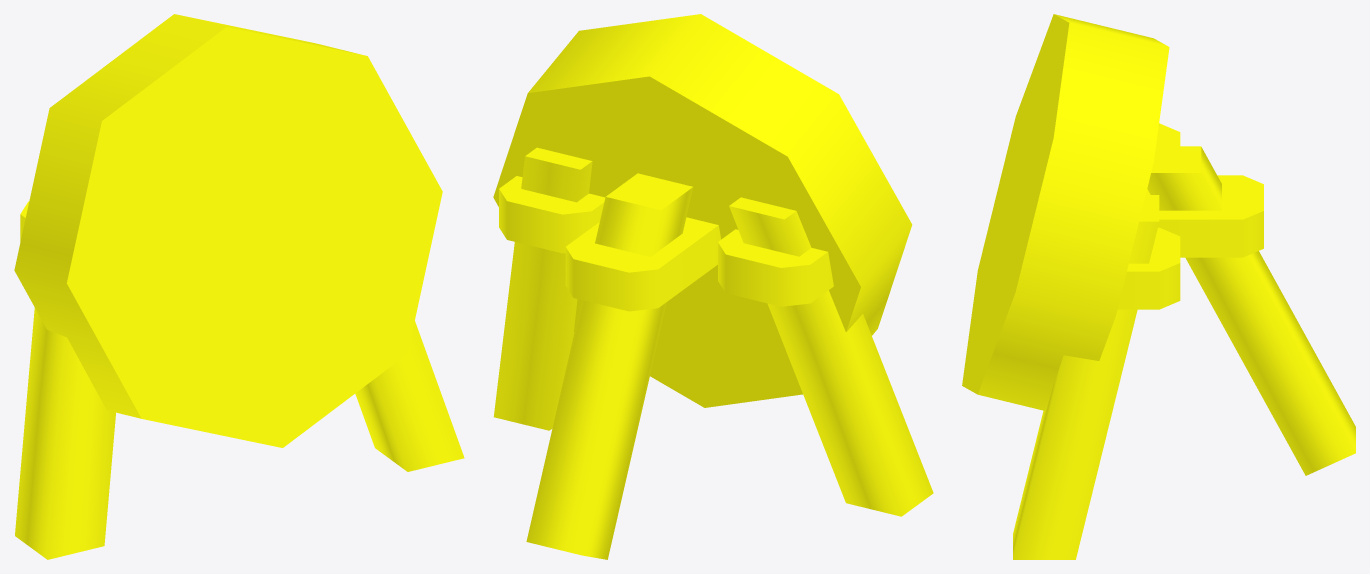
The model's file is _fbx_all_target.glb.
3 renders of one model, left to right at view 1: azimuth 30°, elevation 25°; view 2: azimuth 150°, elevation 25°; view 3: azimuth 270°, elevation 25°, orthographic. The views are drawn at different scales.
Parts seen in each view (by area): view 1: target; view 2: target; view 3: target.
Part boxes in pixels (box(x1,y1,x2,y2)): target: box(14, 14, 464, 559); target: box(493, 14, 933, 559); target: box(962, 14, 1355, 559).
Size of the model in its own units: 0.55 by 0.5806 by 0.4711.
Materials: 1 (1 with a texture image).
